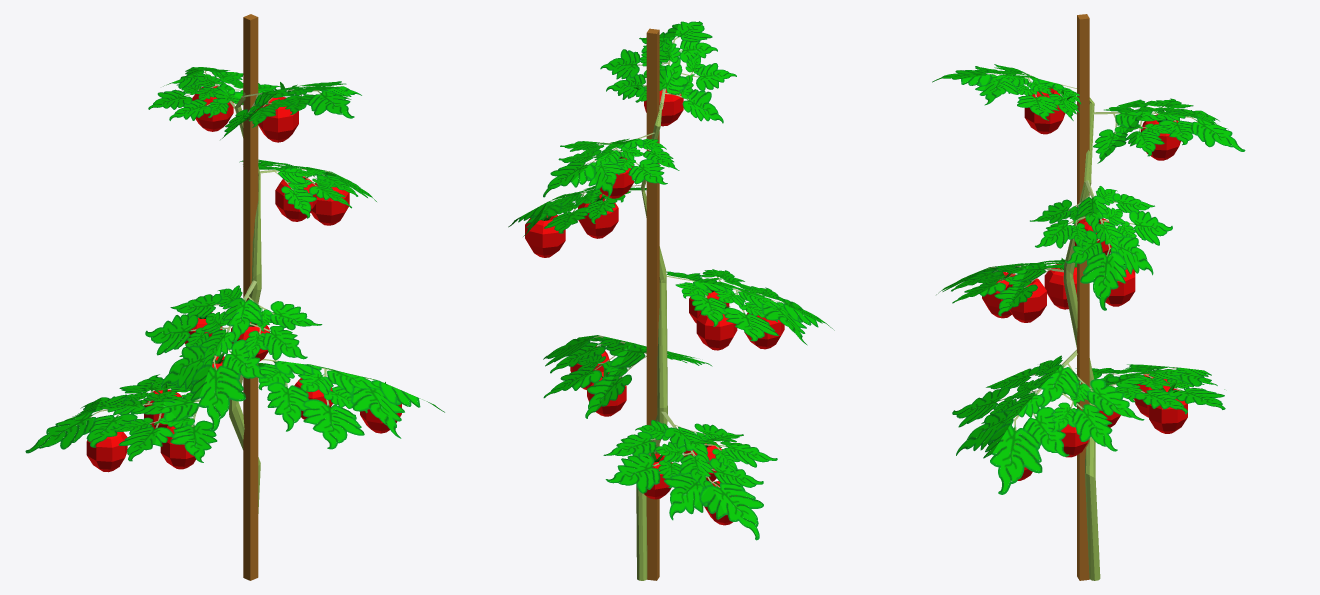
The model's file is TomateF3.glb.
The picture shows the model from 3 angles, left to right: view 1: azimuth 30°, elevation 25°; view 2: azimuth 150°, elevation 25°; view 3: azimuth 270°, elevation 25°; orthographic projection. The views are drawn at different scales.
Parts seen in each view (by area): view 1: TomateF3; view 2: TomateF3; view 3: TomateF3.
Part boxes in pixels (left/top/right/bottom): TomateF3: left=25, top=14, right=444, bottom=580; TomateF3: left=508, top=21, right=834, bottom=580; TomateF3: left=932, top=14, right=1245, bottom=580.
Size of the model in its own units: 0.8978 by 1.21 by 0.8336.
1 material, 1 textured.
